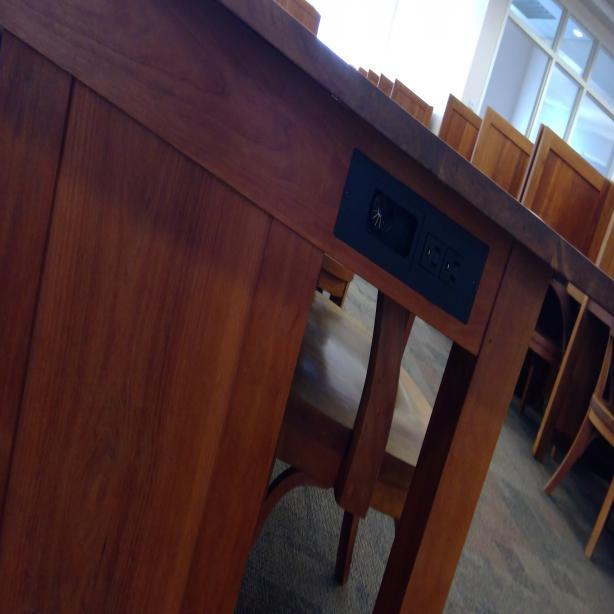typeb: (424, 234, 444, 278), (445, 253, 463, 291)
